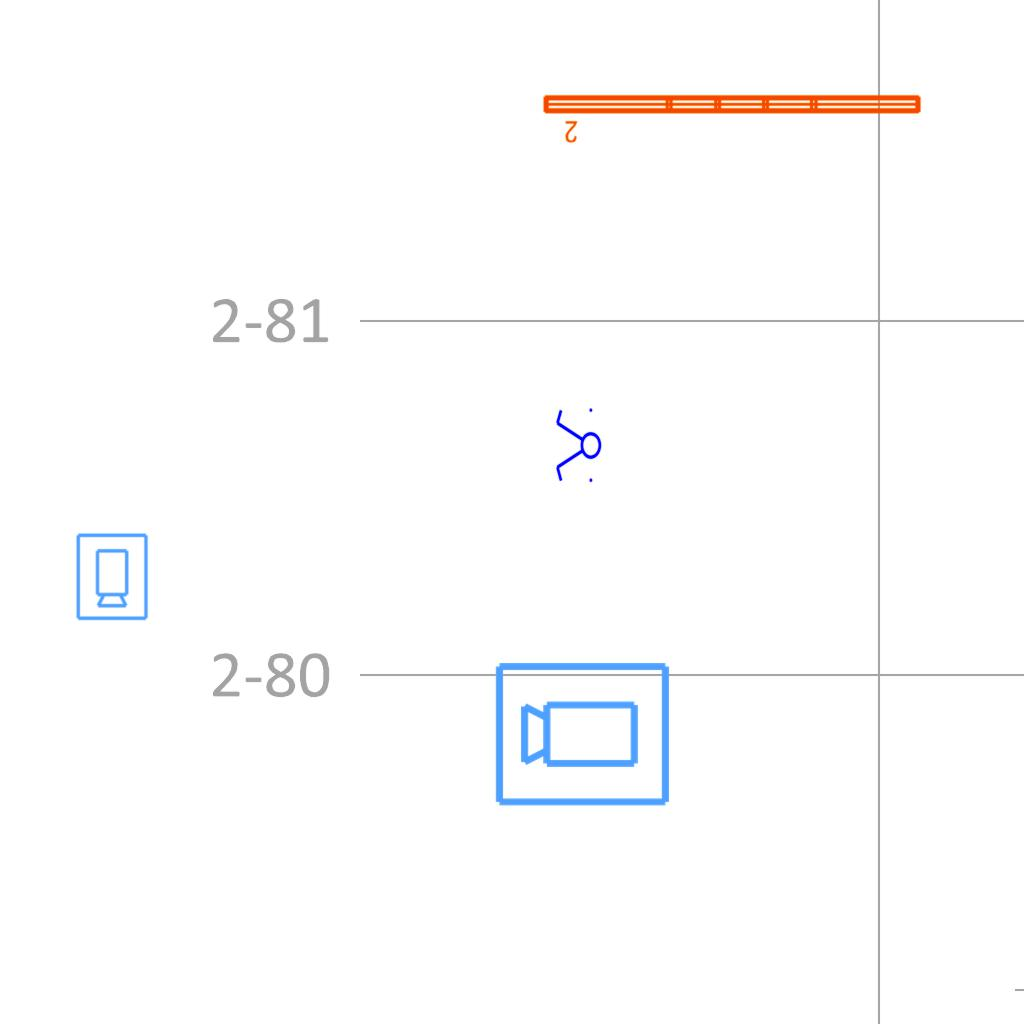Ambulanz_Pendelleuchte_LED: (539, 89, 926, 145)
KFO_Kamera_mit_Festobjektiv: (492, 656, 674, 810), (73, 531, 150, 622)
Serienschalter: (554, 404, 602, 488)
